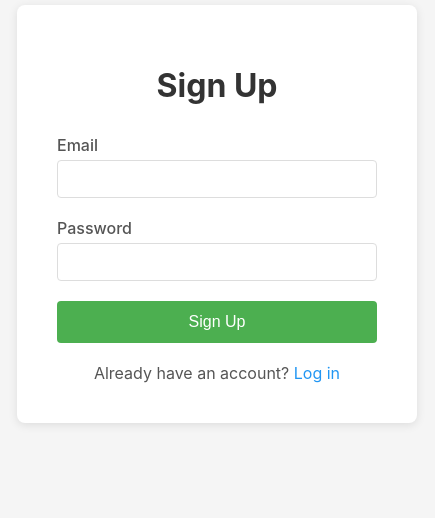
Test: SignupPage › handles successful signup
The image size is (435, 518).
Type "test@example.com" into the field labelled "Email". click: (217, 179)
box: [57,160,377,198]
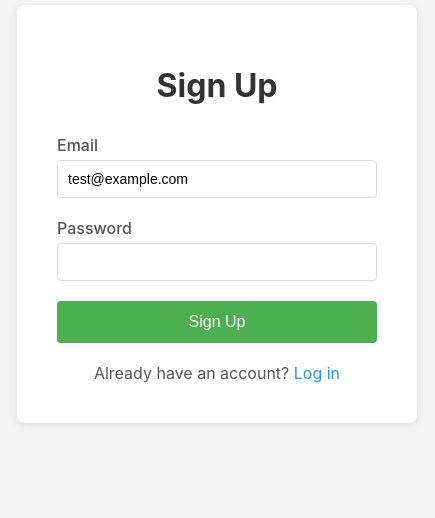
Type "password123" into the password field labelled "Password". click: (217, 262)
box: [57,243,377,281]
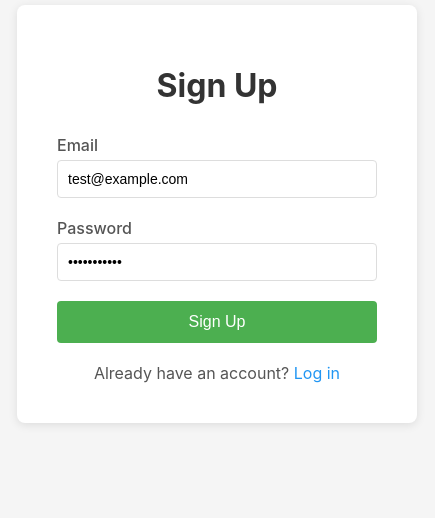
Click the button "Sign Up". click: (217, 322)
box: [57,301,377,343]
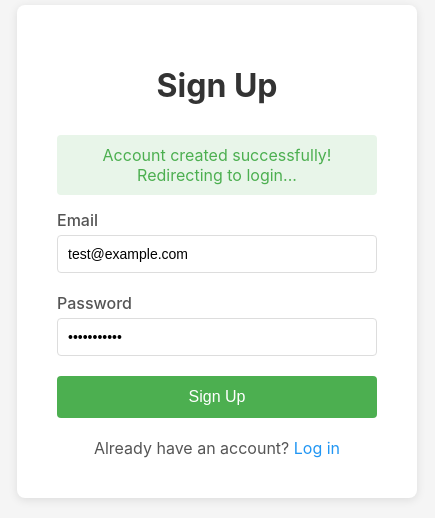
Expected: the text "Account created successfully! Redirecting to login..." is shown, [57,135,377,195]
